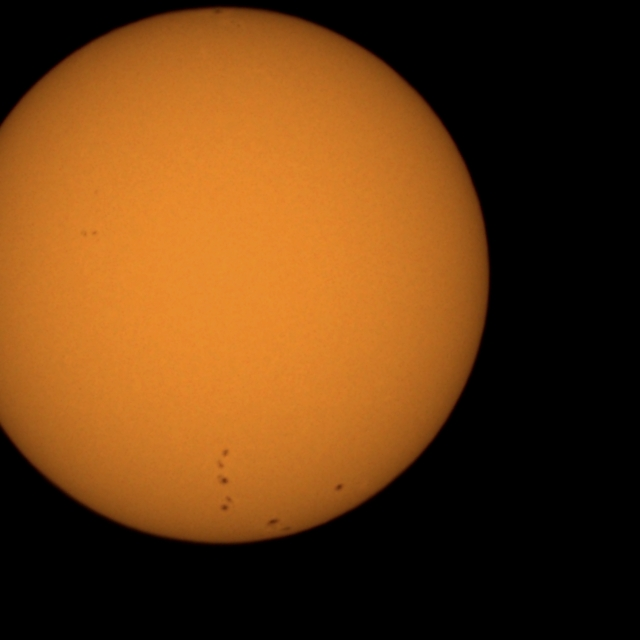sunspot: (215, 447, 231, 481), (218, 494, 234, 512), (79, 228, 99, 239), (215, 472, 229, 487), (267, 517, 281, 527), (334, 482, 345, 492)
